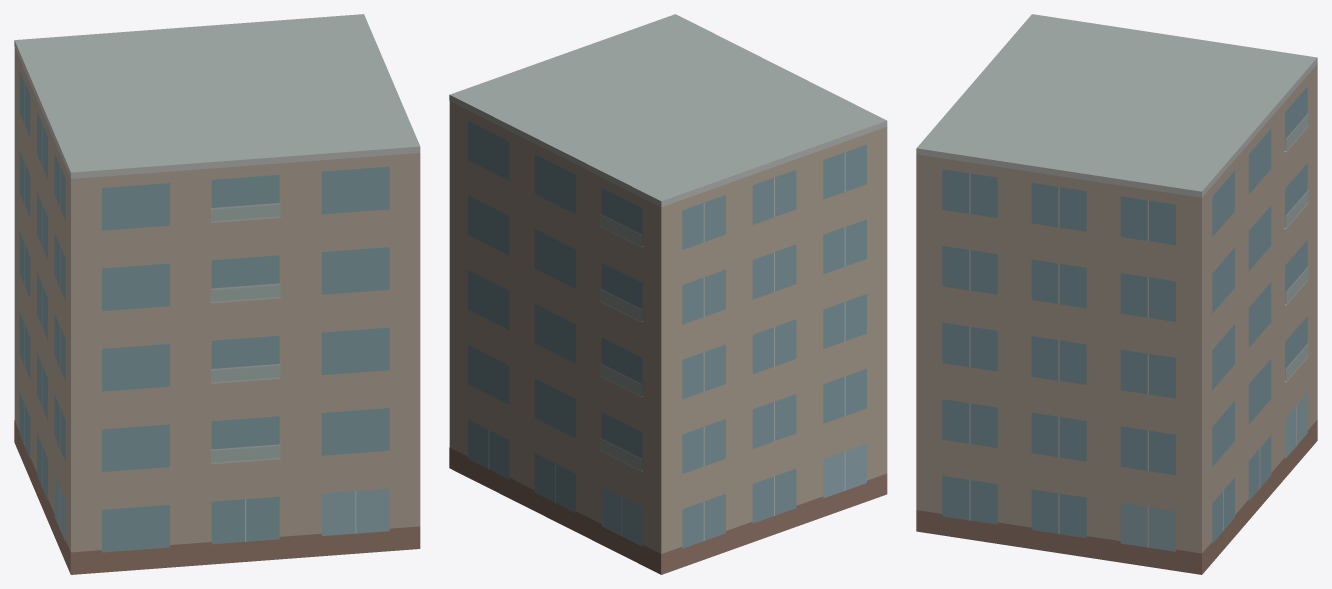
The model's file is survey-upis-32552570.glb.
The picture shows the model from 3 angles, left to right: view 1: azimuth 30°, elevation 25°; view 2: azimuth 150°, elevation 25°; view 3: azimuth 270°, elevation 25°; orthographic projection. The views are drawn at different scales.
Visible parts, largest first — view 1: survey-upis-32552570.tmp; view 2: survey-upis-32552570.tmp; view 3: survey-upis-32552570.tmp.
Boxes of the visible parts, bbox=[...] form: survey-upis-32552570.tmp: bbox=[14, 14, 420, 574]; survey-upis-32552570.tmp: bbox=[449, 14, 887, 574]; survey-upis-32552570.tmp: bbox=[916, 14, 1317, 574].
Bounding box in the file's own units: 15.23 × 15.3 × 14.53.
